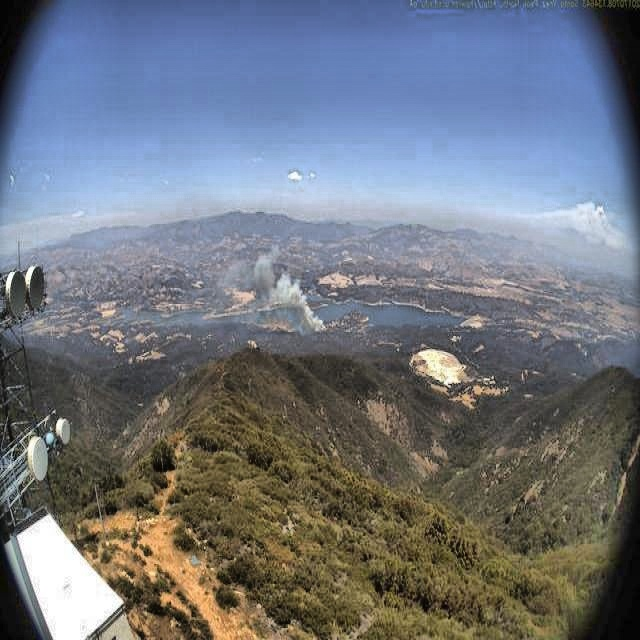smoke: (216, 247, 331, 333)
